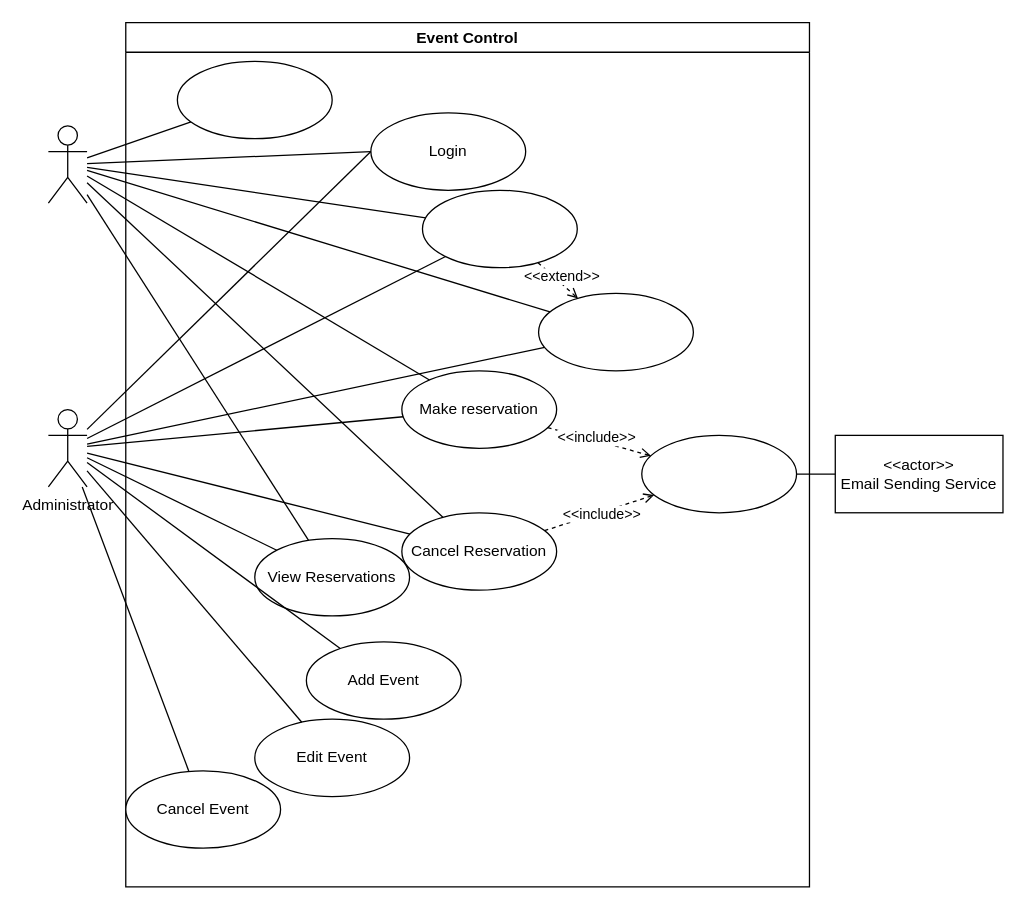
The diagram is 1026 pixels wide and 909 high, and some of its shapes have lost their labels. Here are the shapes that lost their labels. From the top down, the centre of each, then its label:
the point at 254,99: Register
the point at 67,163: User
the point at 499,228: View Events
the point at 615,331: Search/Filter Events
the point at 718,473: Receive confirmation
